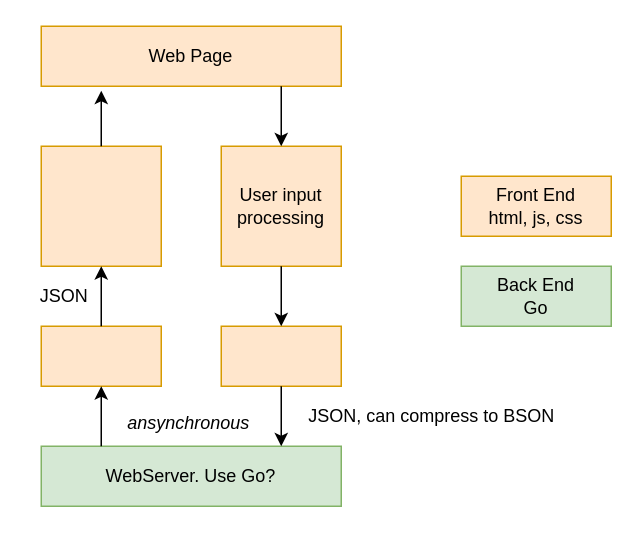
Some shapes in this 638 by 533 pixel diagram are drawn without their labels. Each missing label, with the centre of its shape:
SVG Drawing: (100,205)
Websocket receive: (100,355)
Websocket send: (280,355)
